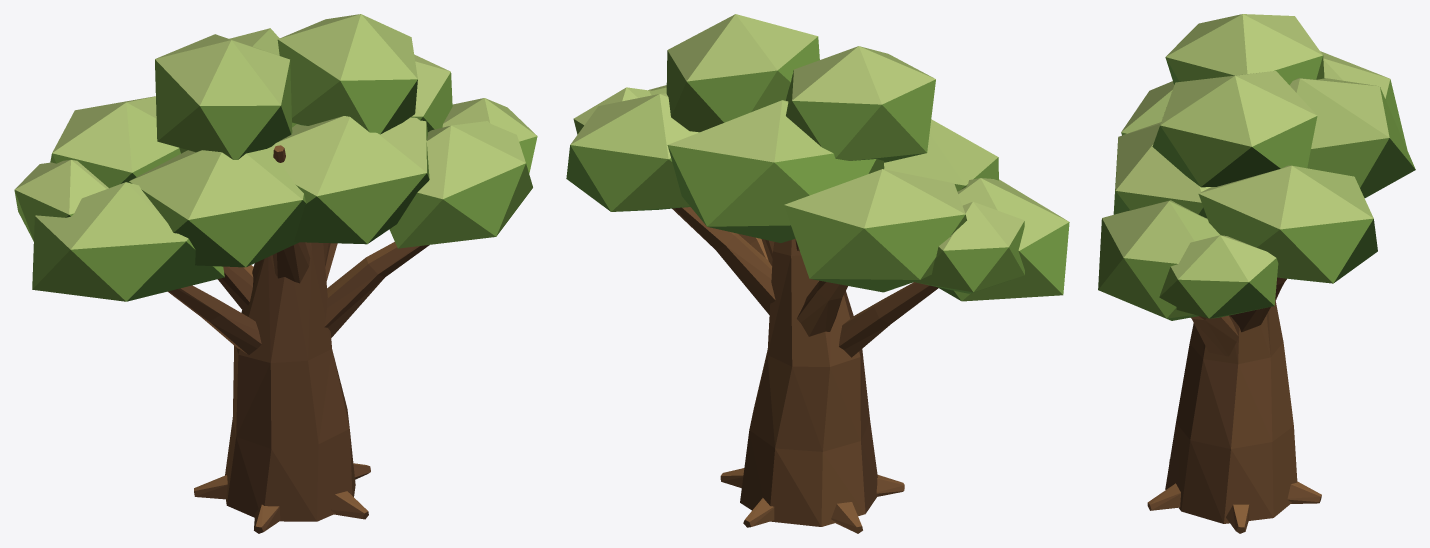
3 views of the same model, side by side, from view 1: azimuth 30°, elevation 25°; view 2: azimuth 150°, elevation 25°; view 3: azimuth 270°, elevation 25° (orthographic). The views are drawn at different scales.
Parts seen in each view (by area): view 1: WK_Tree_Oak_SpringBroad_LOD0_High; view 2: WK_Tree_Oak_SpringBroad_LOD0_High; view 3: WK_Tree_Oak_SpringBroad_LOD0_High.
Boxes of the visible parts, <box> form: WK_Tree_Oak_SpringBroad_LOD0_High: <box>14,14,537,533</box>; WK_Tree_Oak_SpringBroad_LOD0_High: <box>566,14,1069,533</box>; WK_Tree_Oak_SpringBroad_LOD0_High: <box>1098,14,1415,533</box>.
Size of the model in its own units: 6.06 by 5.7 by 3.55.
